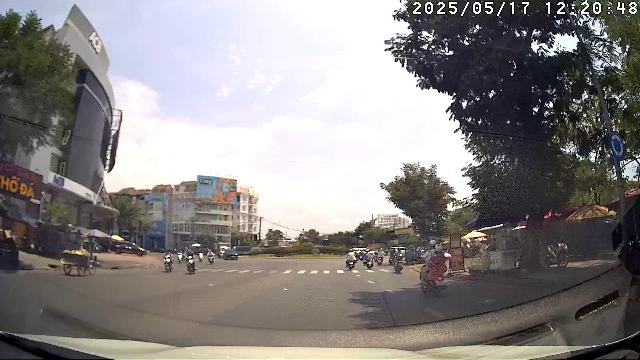303-noi-giao-nhau-chay-theo-vong-xuyen: (608, 132, 624, 158)
